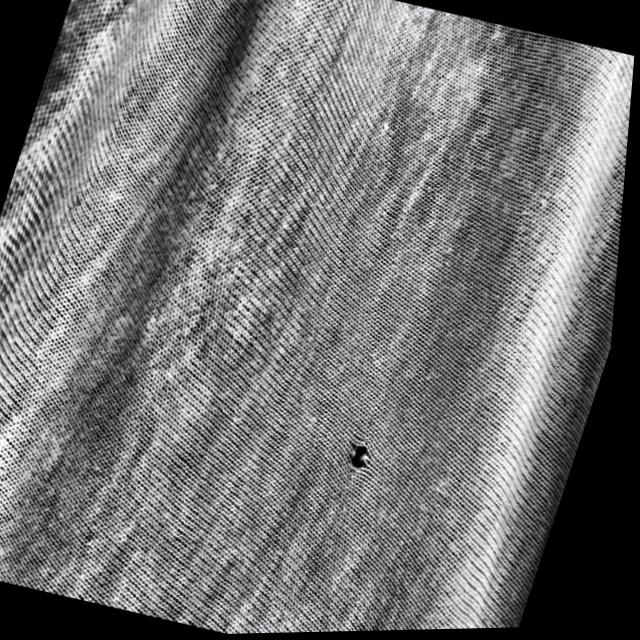Hole: (342, 433, 388, 481)
